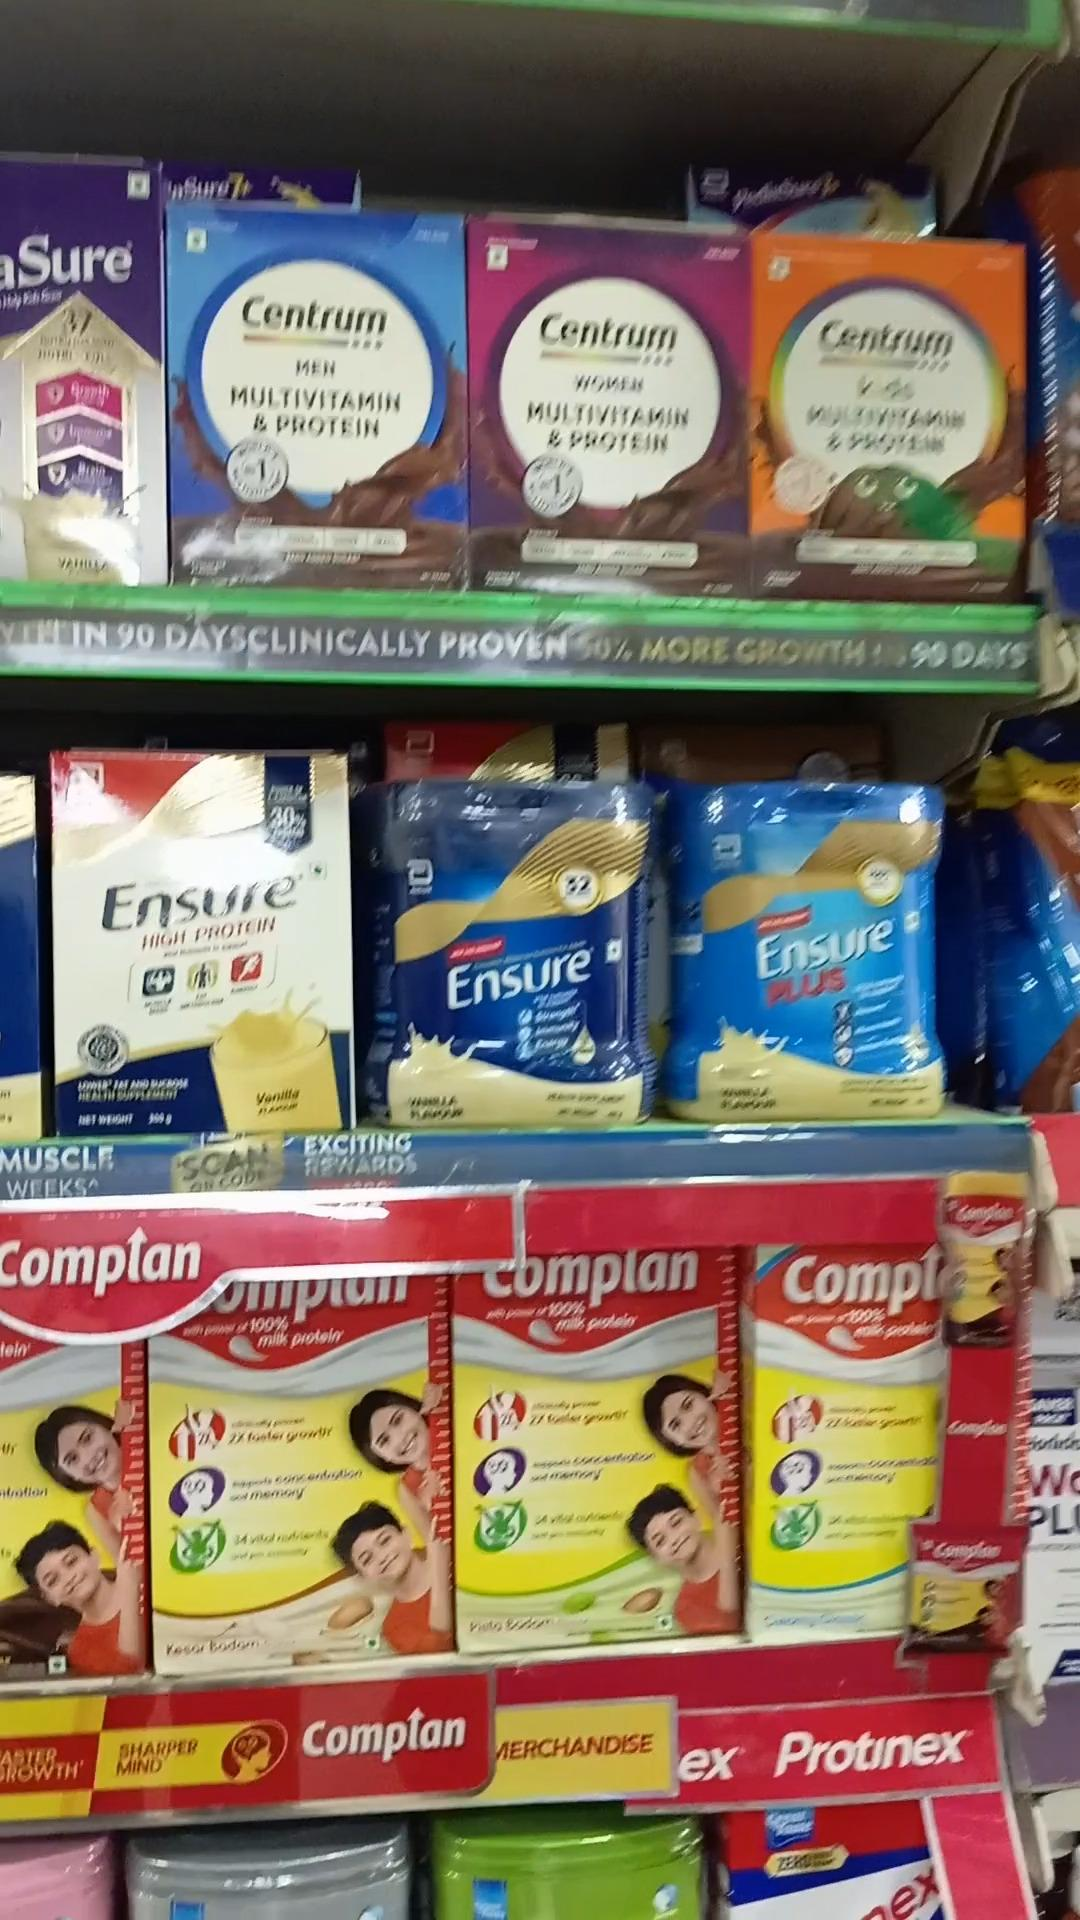COMPLAN_CREAMY_CLASSIC_500_G_PACK: (753, 1247, 913, 1638)
COMPLAN_KESAR_BADAM_500_GMS_PACK: (156, 1329, 448, 1659)
COMPLAN_PISTA_BADAM_500_GMS_PACK: (459, 1273, 740, 1646)
ENSURE_VANILLA_400_G_PACK: (57, 748, 356, 1130)
